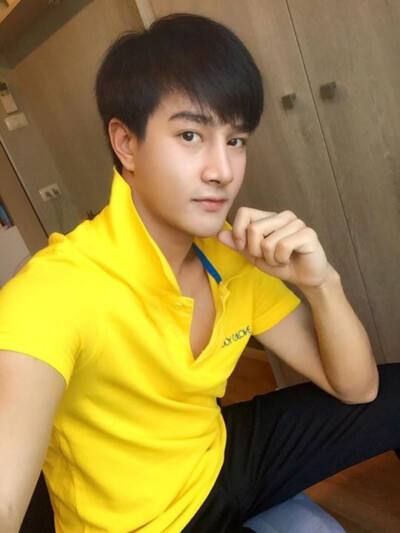person: (3, 25, 357, 435)
